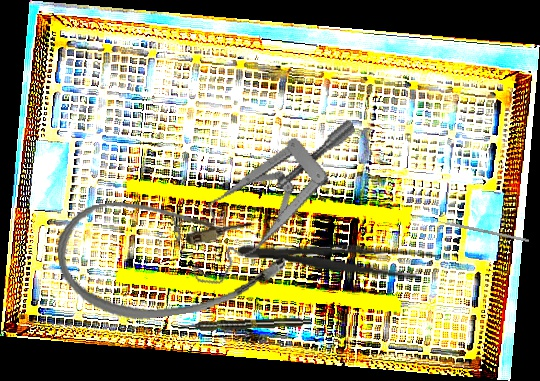Cannula: (51, 179, 291, 331)
Dressing Forceps: (237, 235, 439, 281)
Handpiece: (179, 316, 312, 332)
Pusher: (422, 216, 530, 243)
Speculum: (156, 116, 387, 294)
